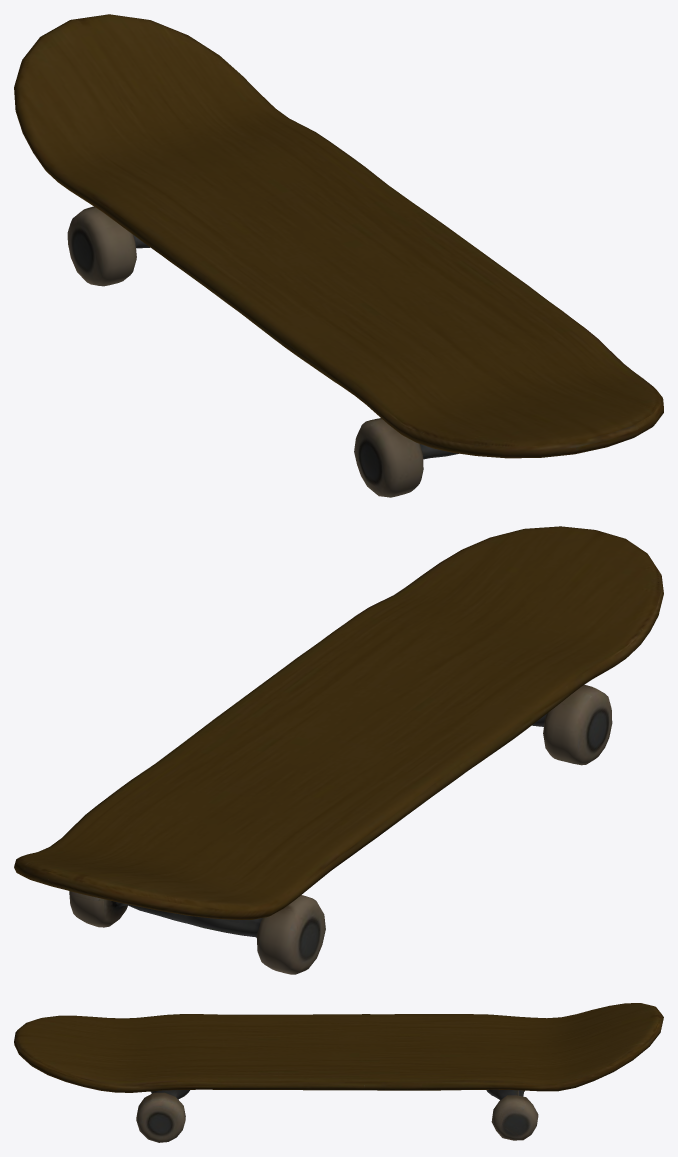
The model's file is skateboard.fbx.
3 views of the same model, one above another, from view 1: azimuth 30°, elevation 25°; view 2: azimuth 150°, elevation 25°; view 3: azimuth 270°, elevation 25° (orthographic). The views are drawn at different scales.
Visible parts, largest first — view 1: tripo_node_78643cb9; view 2: tripo_node_78643cb9; view 3: tripo_node_78643cb9.
Boxes of the visible parts, bbox=[...] form: tripo_node_78643cb9: bbox=[14, 14, 663, 497]; tripo_node_78643cb9: bbox=[14, 526, 663, 974]; tripo_node_78643cb9: bbox=[14, 1003, 663, 1142].
Size of the model in its own units: 87.75 by 55.33 by 340.
